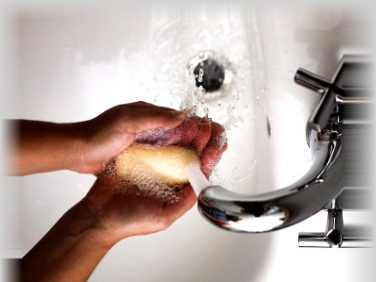washing hand: (70, 48, 299, 270)
